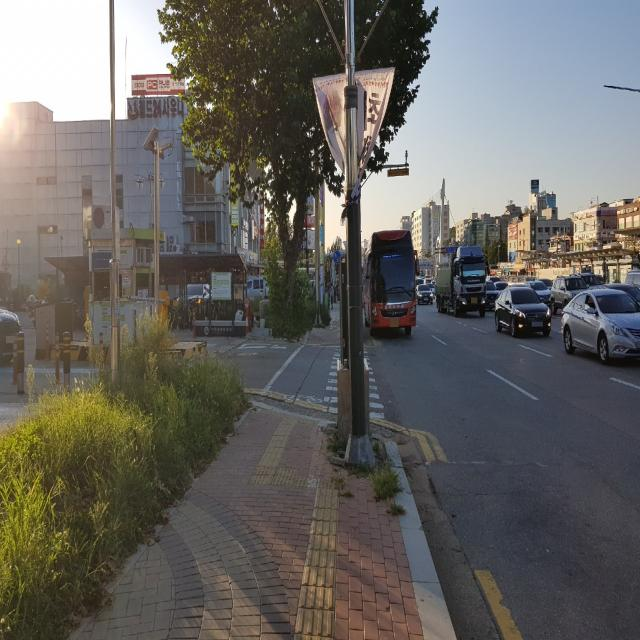횡단보도: (322, 345, 386, 421)
